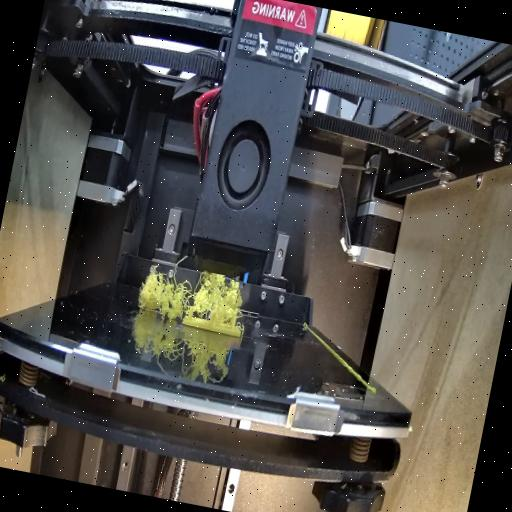spaghetti: (136, 249, 252, 332)
